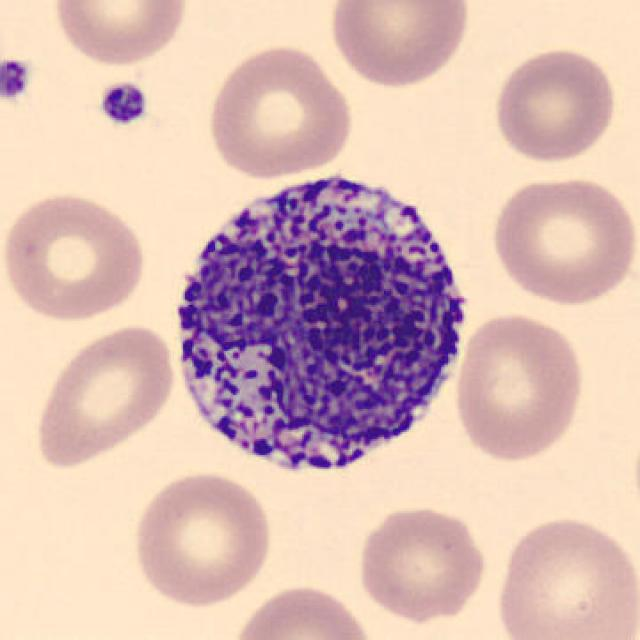Basophil: (158, 148, 486, 496)
Platelets: (96, 79, 149, 129), (0, 55, 34, 104)
RBC: (30, 319, 180, 469), (203, 40, 357, 182), (450, 308, 588, 466), (126, 465, 276, 610), (0, 187, 151, 324), (487, 171, 638, 307), (491, 511, 638, 640), (354, 501, 491, 624), (487, 42, 621, 164), (324, 0, 474, 90), (48, 0, 192, 69), (228, 580, 378, 640)
